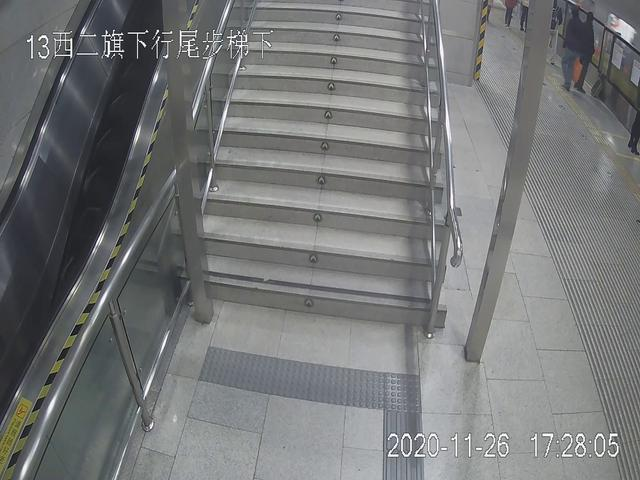person: (554, 4, 581, 93), (578, 8, 596, 95)
